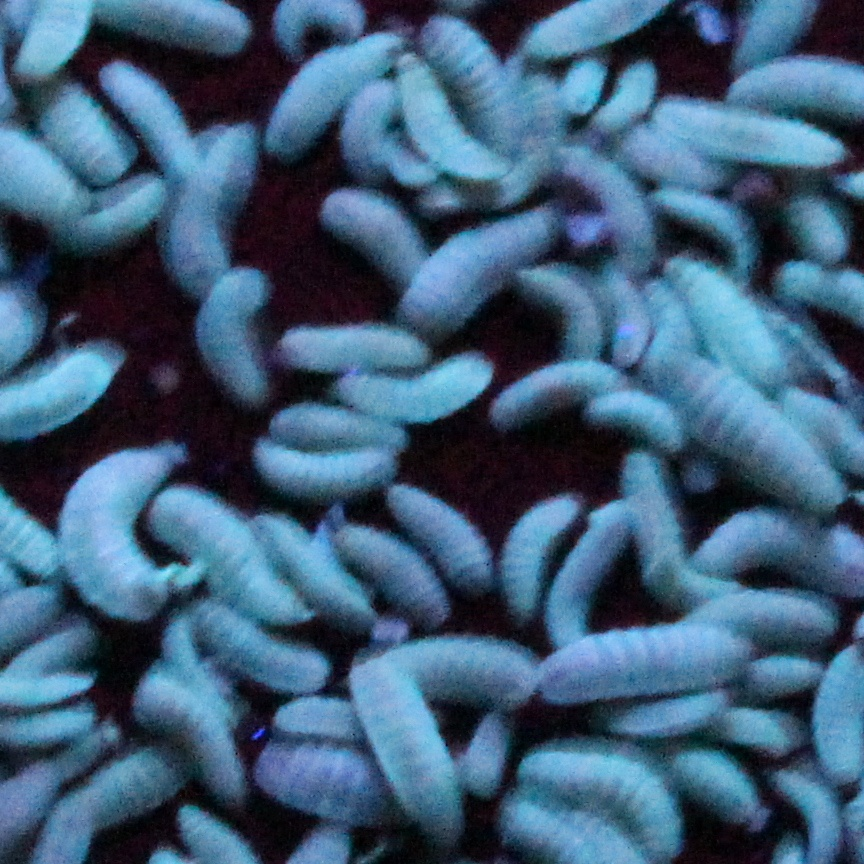larve: (169, 489, 315, 614), (508, 742, 694, 835), (397, 214, 562, 314), (65, 445, 156, 620), (533, 157, 672, 271), (375, 655, 445, 844), (708, 381, 826, 492), (608, 457, 697, 603), (665, 278, 780, 385), (144, 678, 244, 789), (501, 349, 637, 428), (541, 642, 750, 692), (340, 528, 451, 617), (250, 434, 395, 496), (199, 278, 266, 407), (672, 192, 772, 278), (266, 49, 342, 161), (344, 360, 494, 410), (183, 128, 233, 274), (276, 330, 418, 373), (683, 739, 762, 814), (455, 638, 537, 710), (506, 501, 551, 629), (141, 68, 194, 172), (651, 120, 825, 151), (449, 483, 493, 594), (455, 37, 505, 131), (348, 88, 397, 181), (60, 94, 111, 175), (410, 59, 445, 167), (611, 55, 655, 119), (561, 50, 601, 119)
